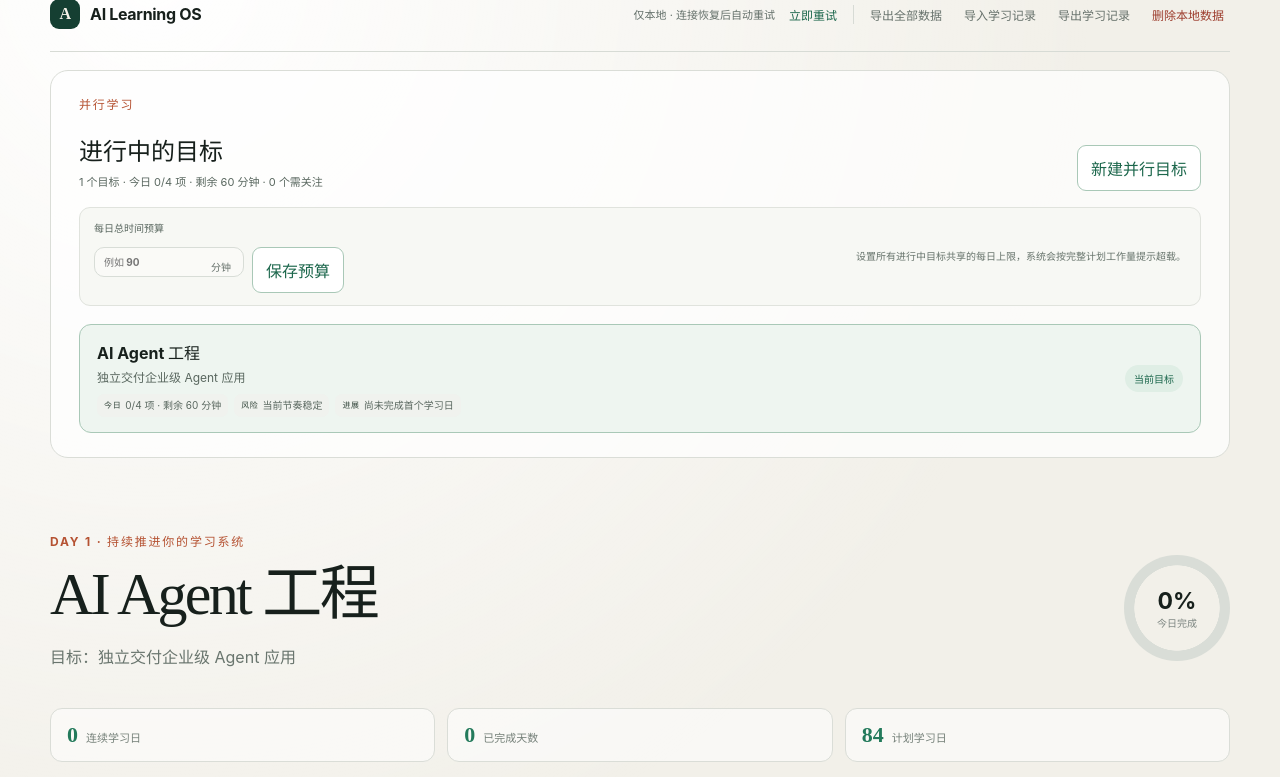
Test: learning data controls › starts a parallel goal while preserving existing active progress
Click the button "新建并行目标".
click(1139, 168)  # box [1077,144,1201,190]
(page scrolled)
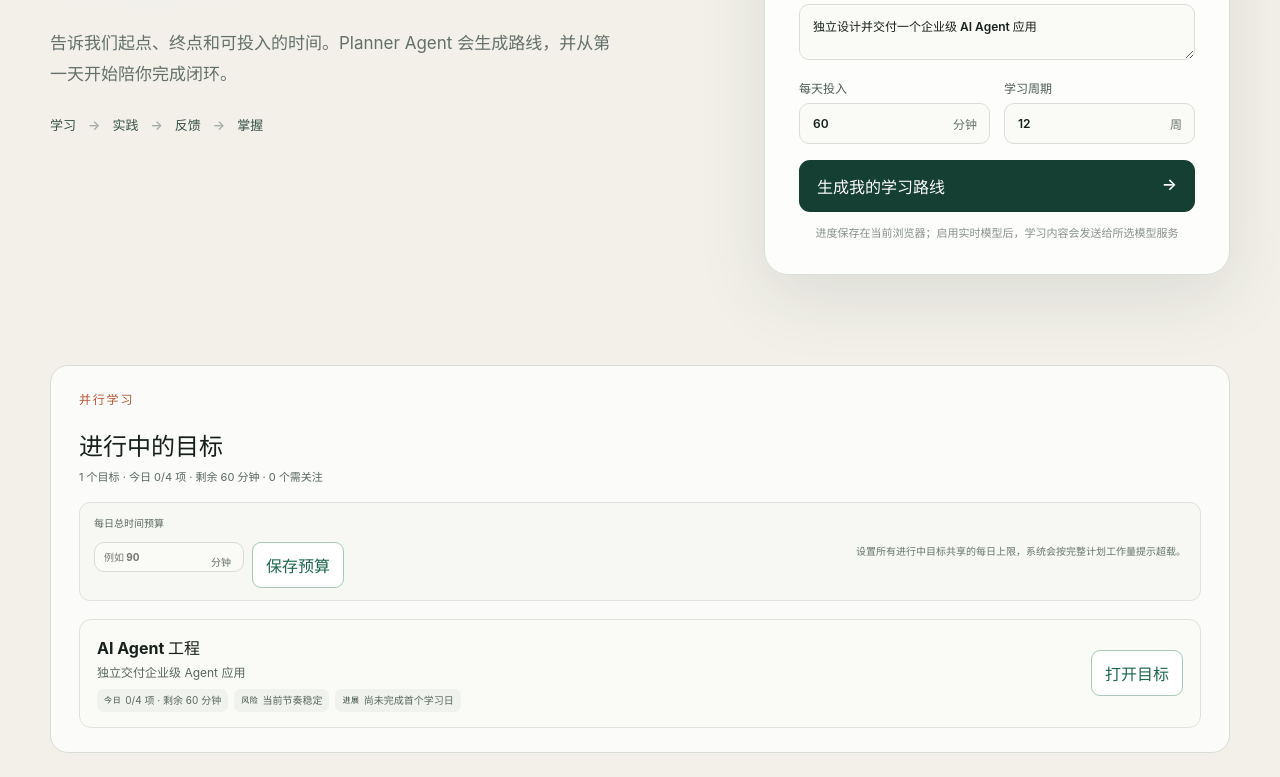
Check: the heading "进行中的目标" is shown, box [79,434,223,460]
Check: the button "生成我的学习路线 →" is shown, box [799,160,1195,212]
Check: the button "打开目标" is shown, box [1091,650,1183,696]
